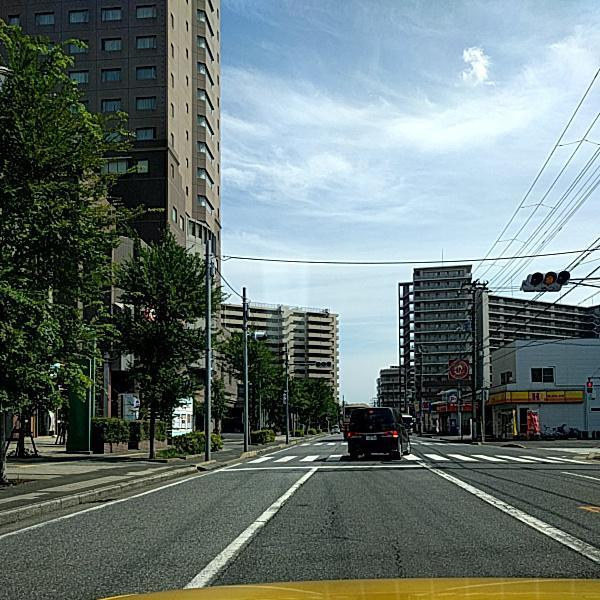D00: (384, 530, 410, 574)
D20: (308, 498, 357, 543)
D44: (422, 460, 597, 564)
